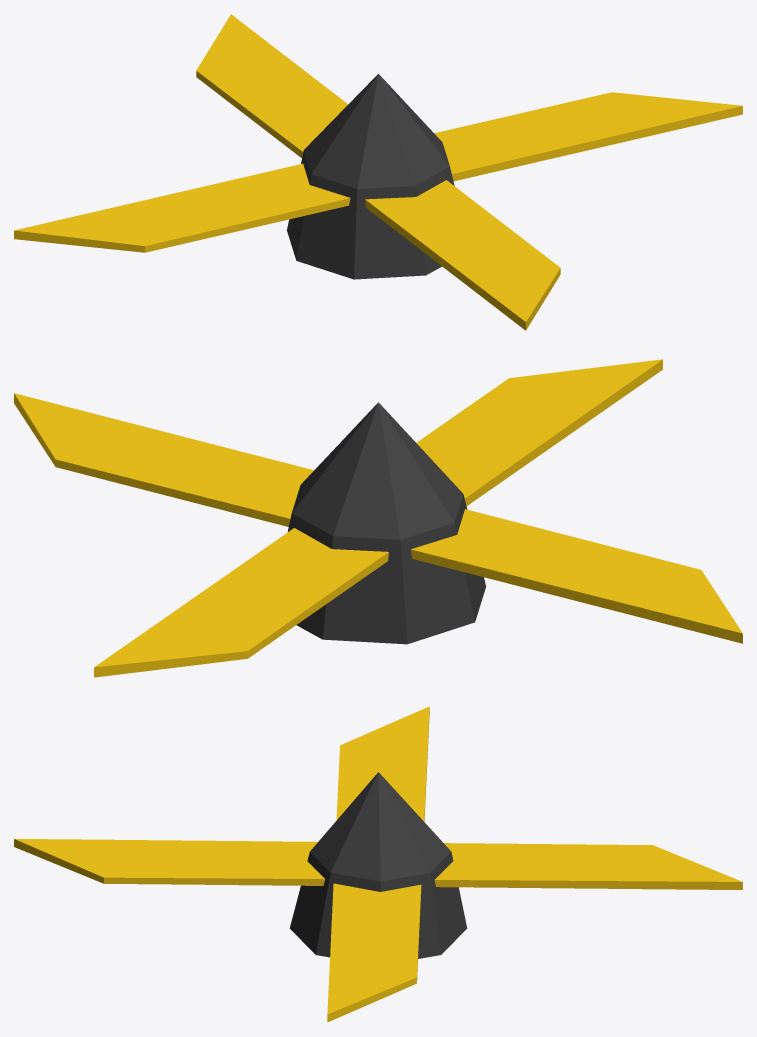
The model's file is propellerY.obj.
3 renders of one model, top to bottom at view 1: azimuth 30°, elevation 25°; view 2: azimuth 150°, elevation 25°; view 3: azimuth 270°, elevation 25°, orthographic. The views are drawn at different scales.
Parts seen in each view (by area): view 1: propeller_prop_Цилиндр.001; view 2: propeller_prop_Цилиндр.001; view 3: propeller_prop_Цилиндр.001.
Boxes of the visible parts, bbox=[...] form: propeller_prop_Цилиндр.001: bbox=[14, 14, 742, 330]; propeller_prop_Цилиндр.001: bbox=[14, 359, 742, 677]; propeller_prop_Цилиндр.001: bbox=[14, 706, 742, 1022].
Bounding box in the file's own units: 2.31 × 0.5472 × 2.31.
